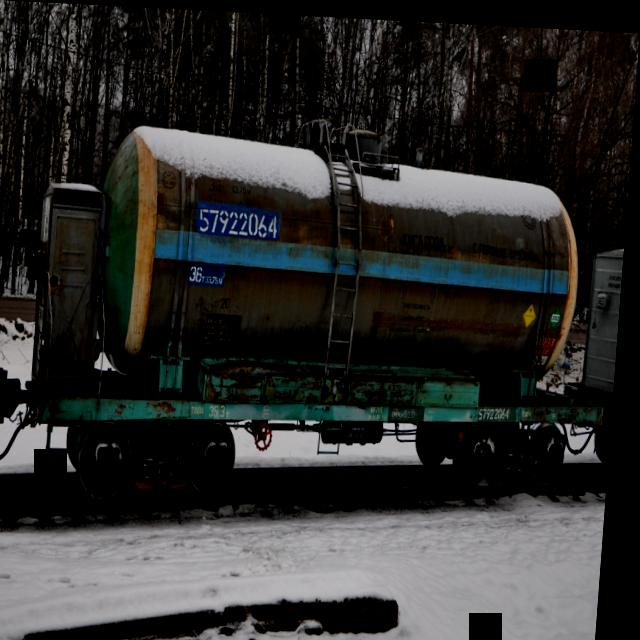tank: (17, 60, 606, 527), (574, 171, 631, 484)
